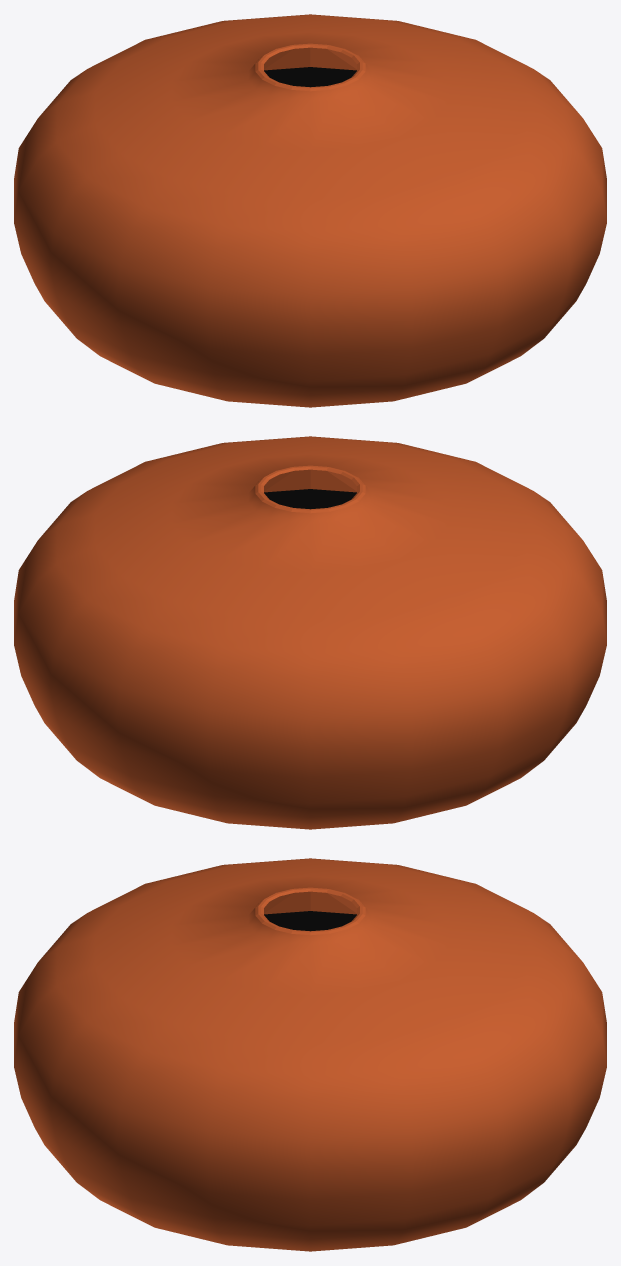
The model's file is vase9.FBX.
The picture shows the model from 3 angles, top to bottom: view 1: azimuth 30°, elevation 25°; view 2: azimuth 150°, elevation 25°; view 3: azimuth 270°, elevation 25°; orthographic projection.
Visible parts, largest first — view 1: vase9; view 2: vase9; view 3: vase9.
Boxes of the visible parts, x1=… form: vase9: x1=14, y1=14, x2=606, y2=407; vase9: x1=14, y1=436, x2=606, y2=829; vase9: x1=14, y1=858, x2=606, y2=1251.
Size of the model in its own units: 10.28 by 10.13 by 4.89.
Materials: 1 (1 with a texture image).
